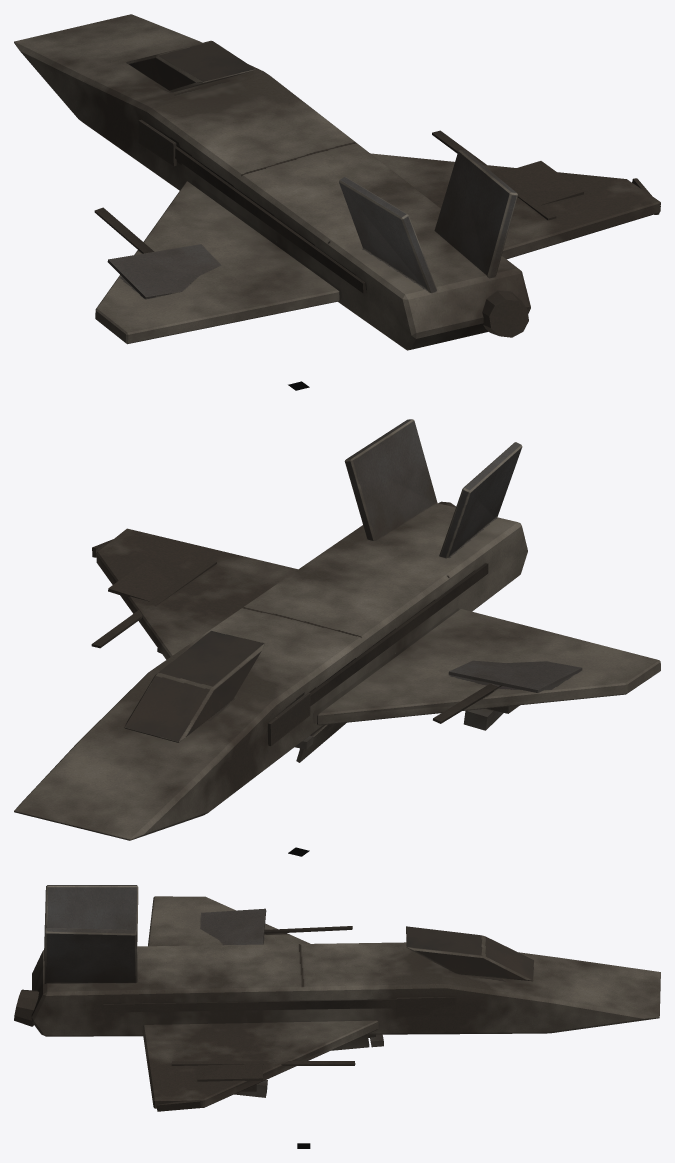
Rendered from ord_absolution_wreck.fbx.
3 renders of one model, top to bottom at view 1: azimuth 30°, elevation 25°; view 2: azimuth 150°, elevation 25°; view 3: azimuth 270°, elevation 25°, orthographic. The views are drawn at different scales.
Visible parts, largest first — view 1: base_bar; view 2: base_bar, pylon_bar, bay_bar; view 3: base_bar, bay_bar.
Part boxes in pixels (left/top/right/bottom): base_bar: left=14, top=14, right=660, bottom=350; base_bar: left=14, top=419, right=660, bottom=840; pylon_bar: left=157, top=648, right=519, bottom=730; bay_bar: left=295, top=722, right=346, bottom=762; base_bar: left=14, top=885, right=660, bottom=1111; bay_bar: left=331, top=1034, right=383, bottom=1050.
Bounding box in the file's own units: 763 × 410 × 1005.
Materials: 2 (2 with a texture image).
